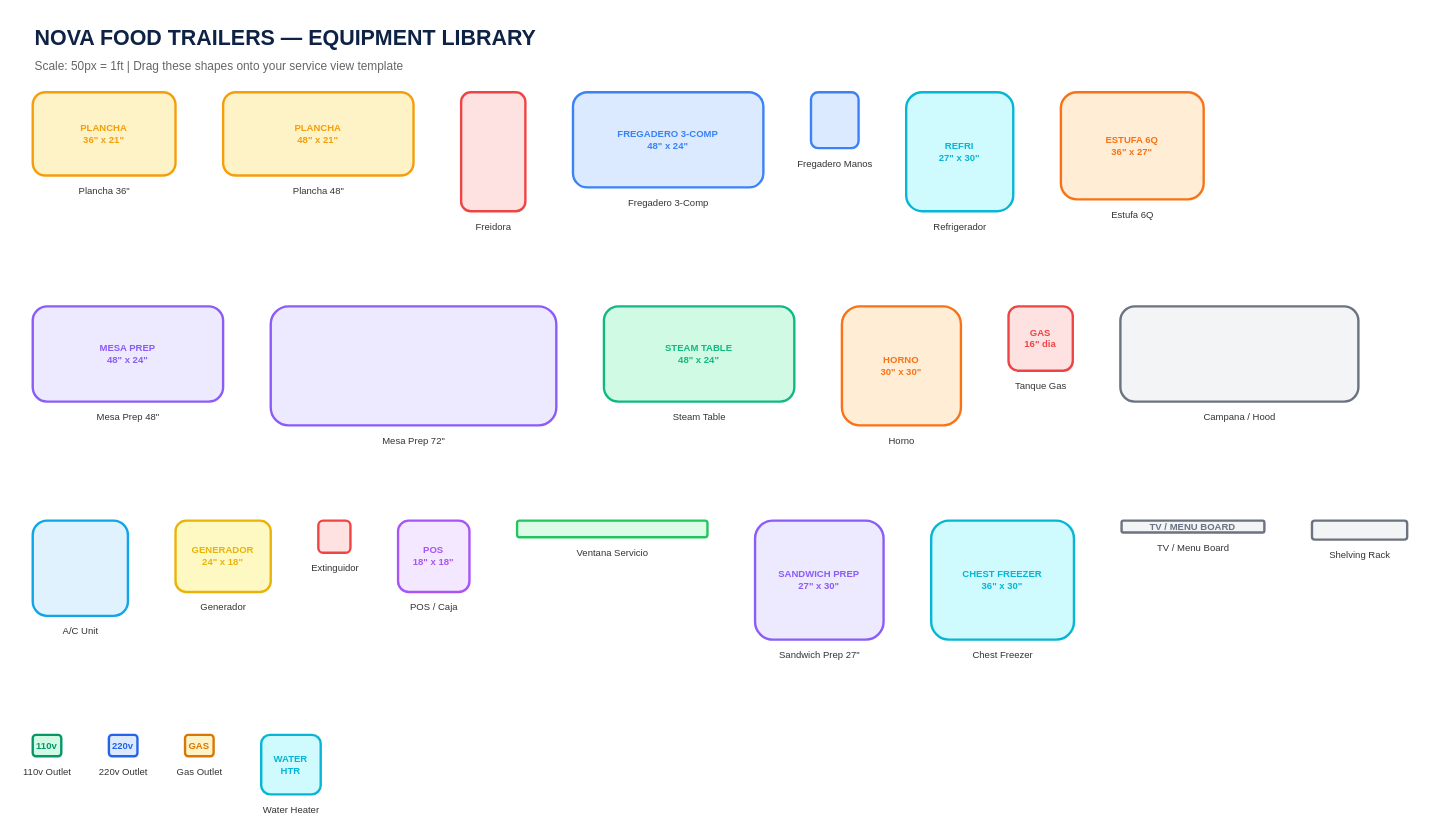
This 1439x837 diagram has some shape labels left out. Each missing label, with the centre of its shape:
A/C 24" x 24": (x=80, y=567)
CAMPANA / HOOD 60" x 24": (x=1239, y=353)
EXT: (x=334, y=536)
FREIDORA 16" x 30": (x=492, y=151)
MANOS 12" x 14": (x=834, y=119)
MESA PREP GRANDE 72" x 30": (x=413, y=365)
SHELF 24": (x=1359, y=529)
VENTANA SERVICIO 48": (x=611, y=528)
